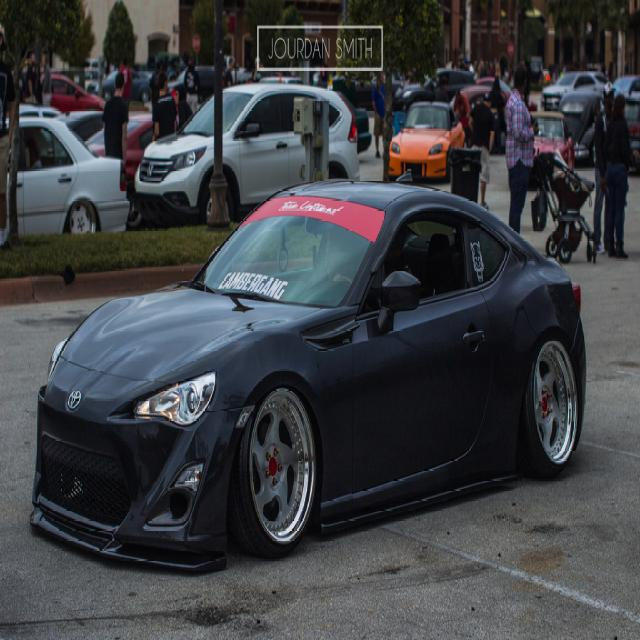Car: (31, 184, 588, 567), (134, 80, 358, 221), (4, 120, 125, 240), (386, 105, 465, 179), (532, 109, 574, 169), (543, 74, 609, 112), (395, 70, 474, 100), (41, 75, 105, 109)
